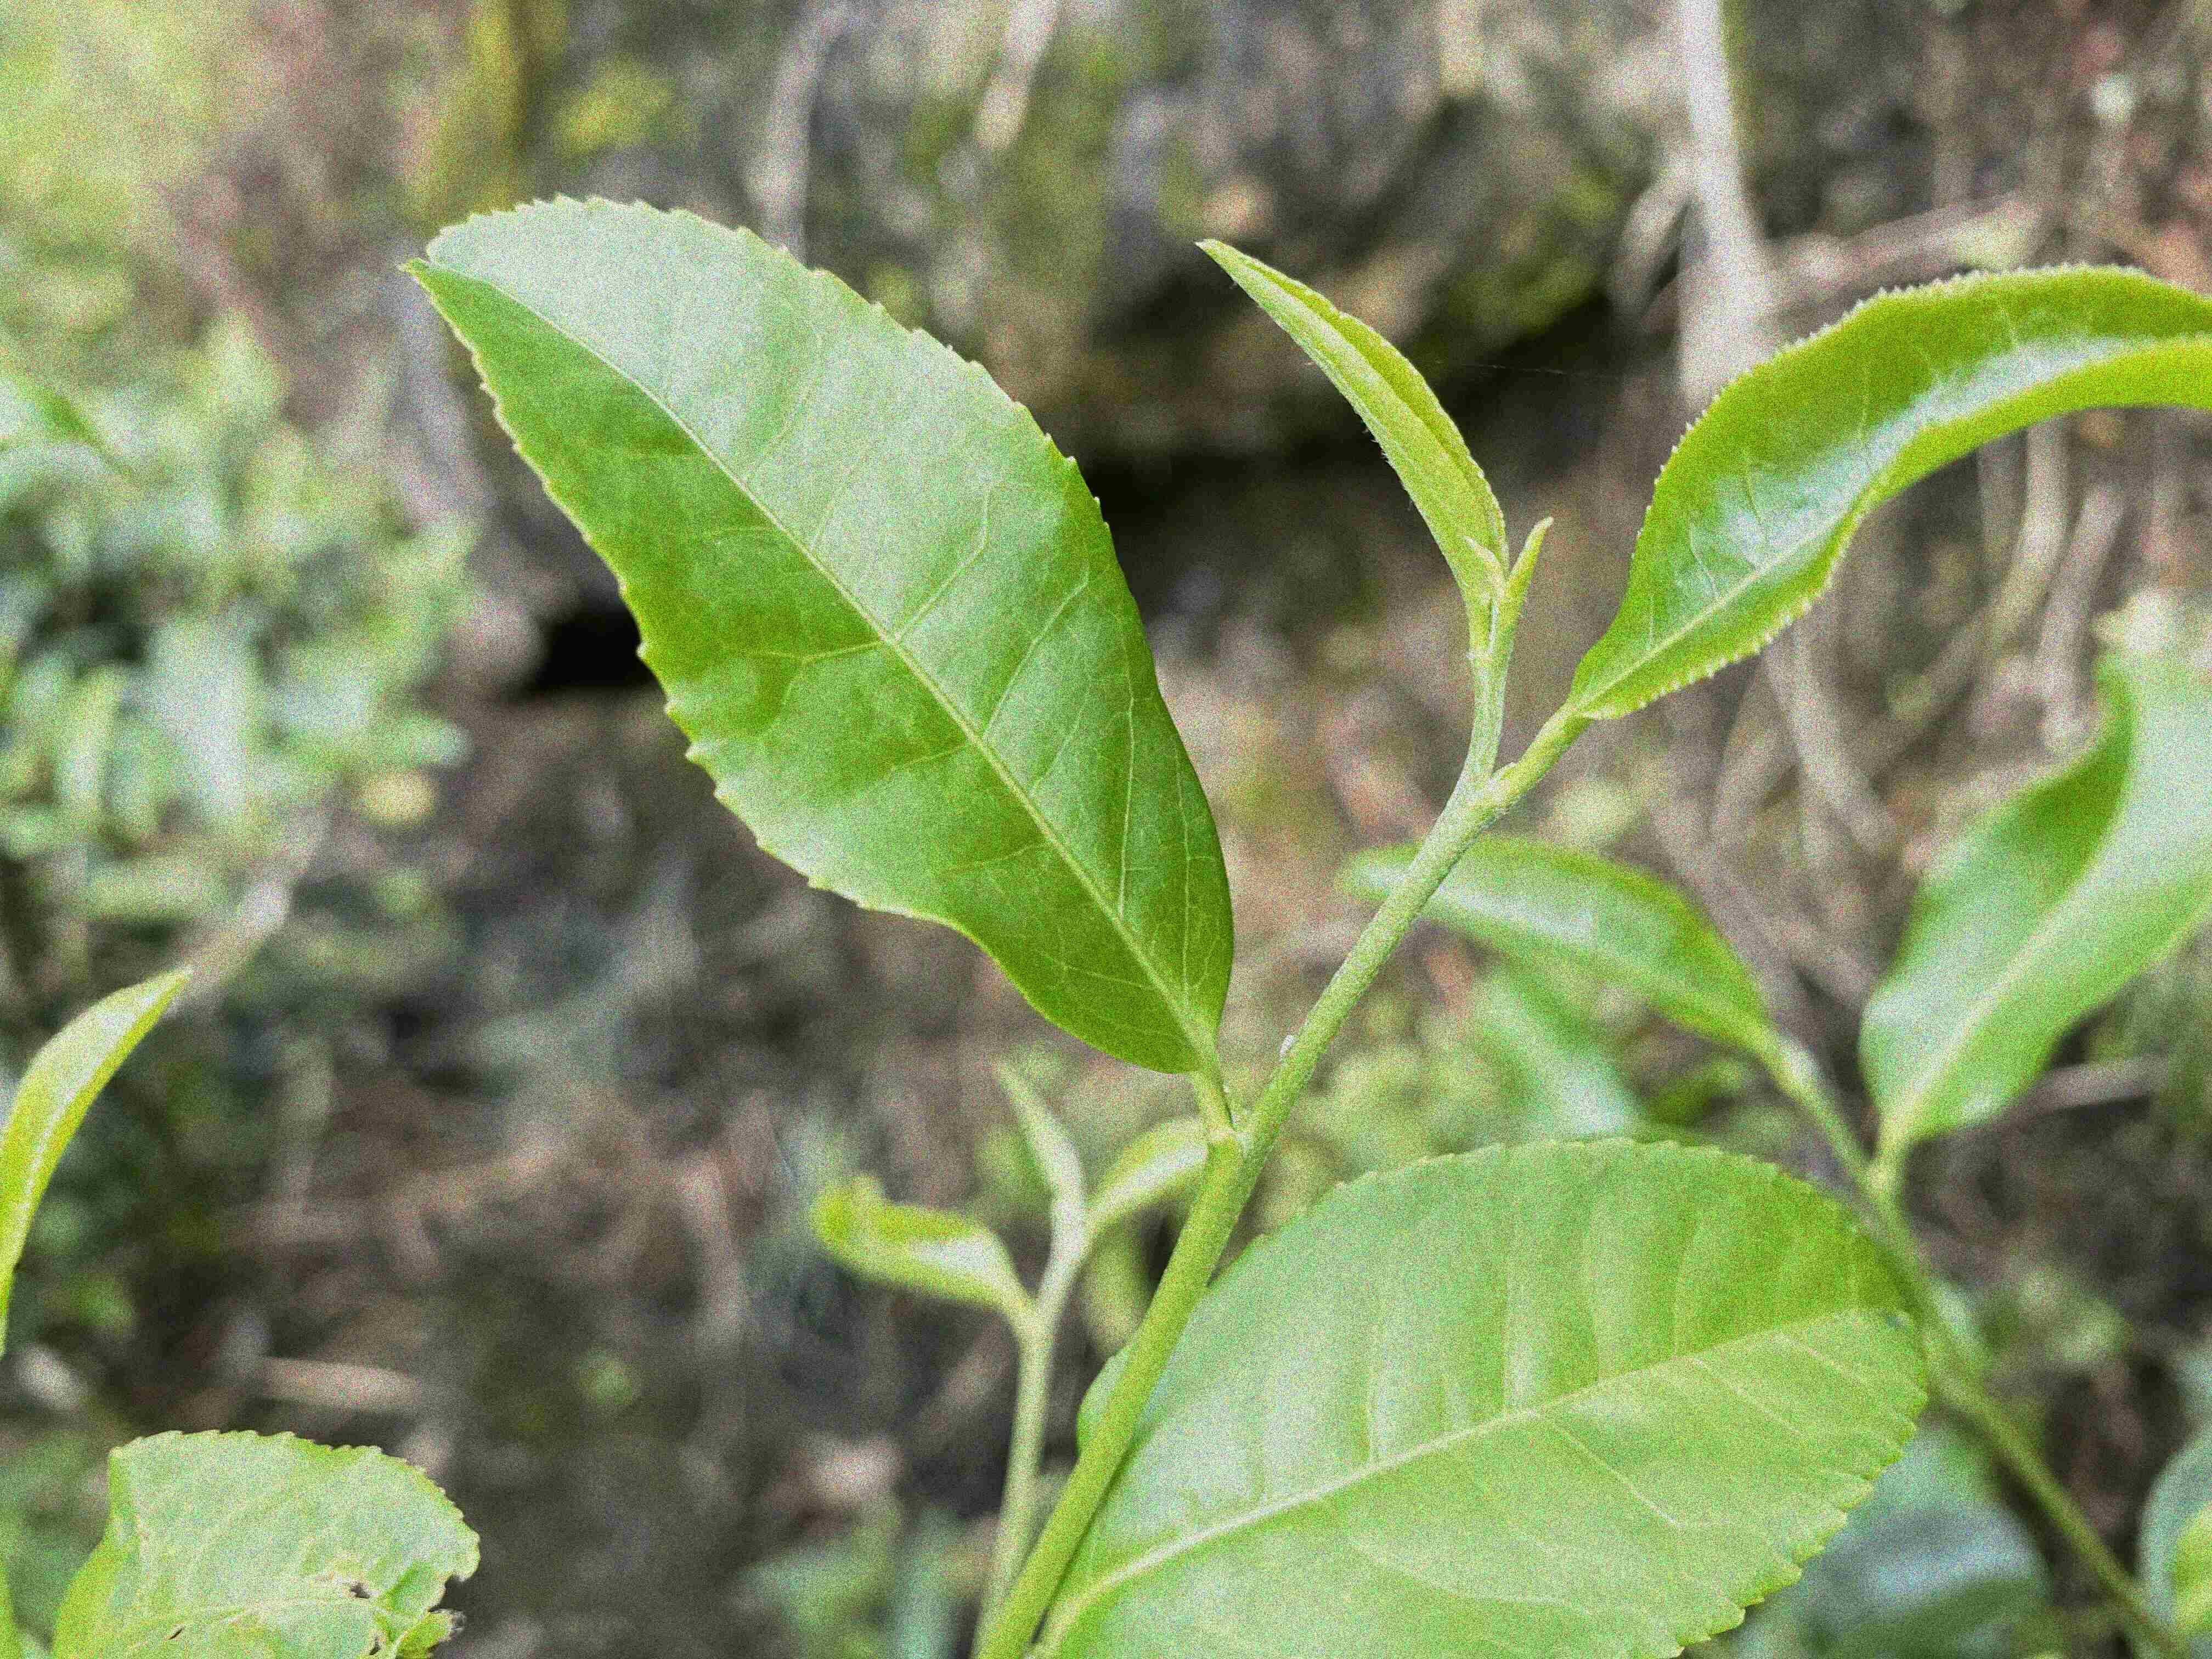chihuo_low: (44, 1424, 482, 1657)
healthy: (395, 188, 1240, 1079), (1033, 1136, 1933, 1656), (1564, 258, 2210, 725)
